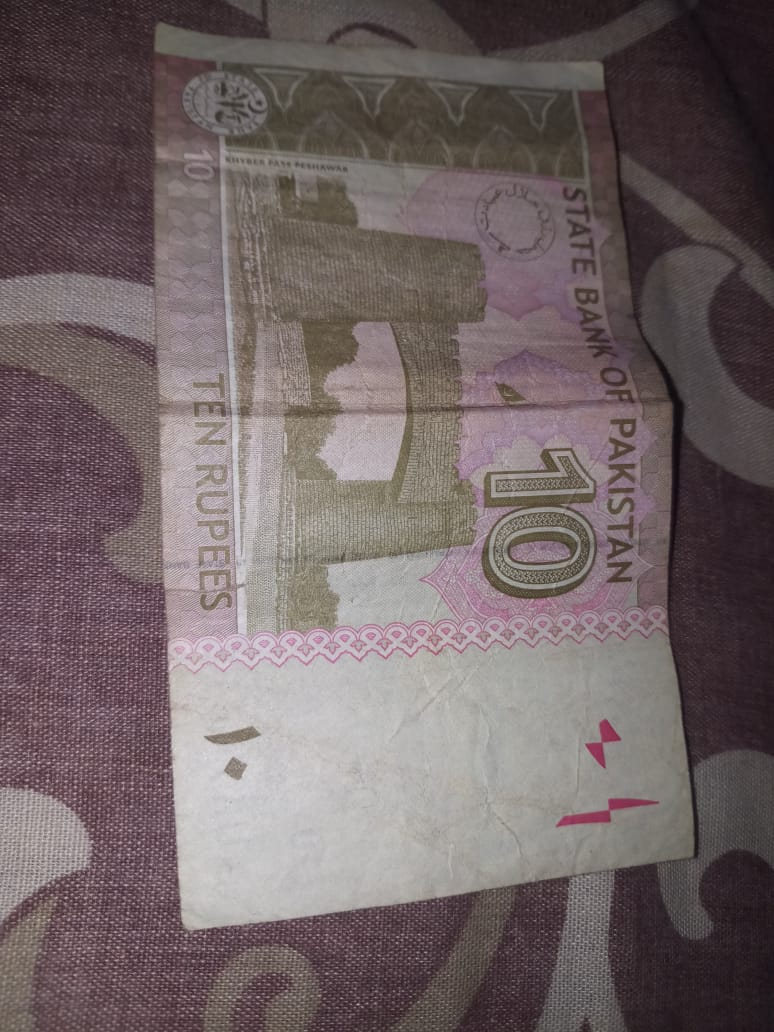10 rupee: (143, 26, 694, 931)
